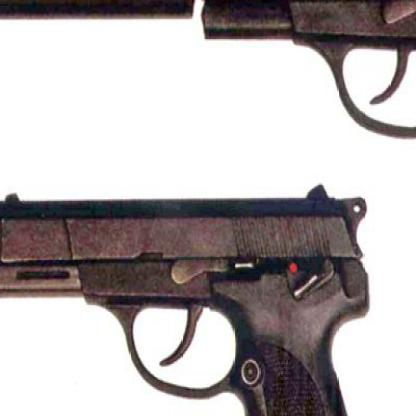gun: (0, 0, 415, 311), (0, 178, 394, 414)
